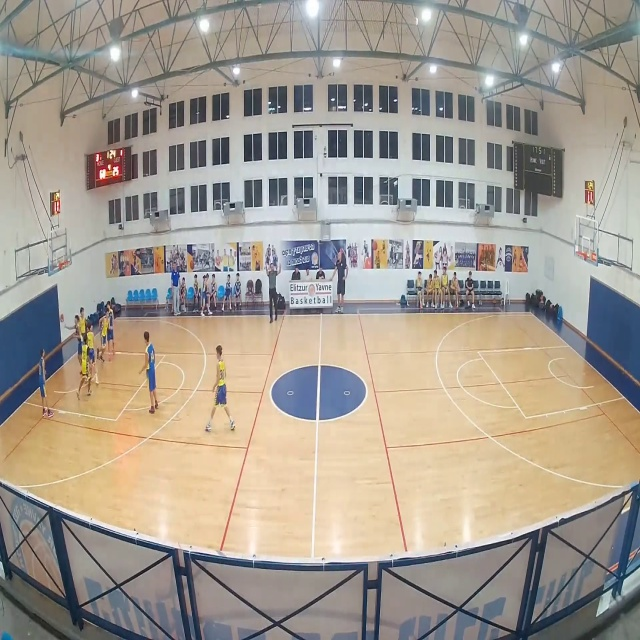Basketball: (59, 314, 64, 322)
